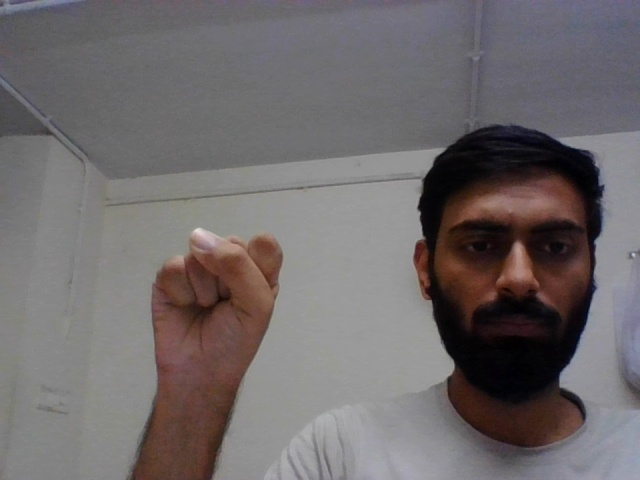S: (136, 215, 288, 415)
